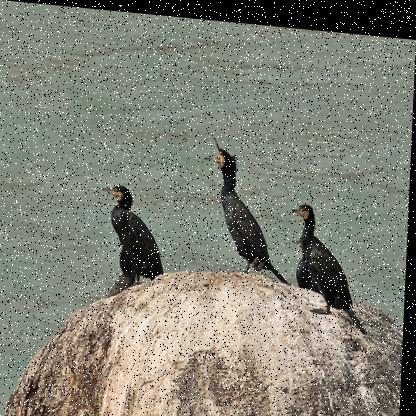Burung: (200, 131, 299, 286), (290, 192, 374, 329), (100, 181, 167, 285), (292, 229, 316, 285)
